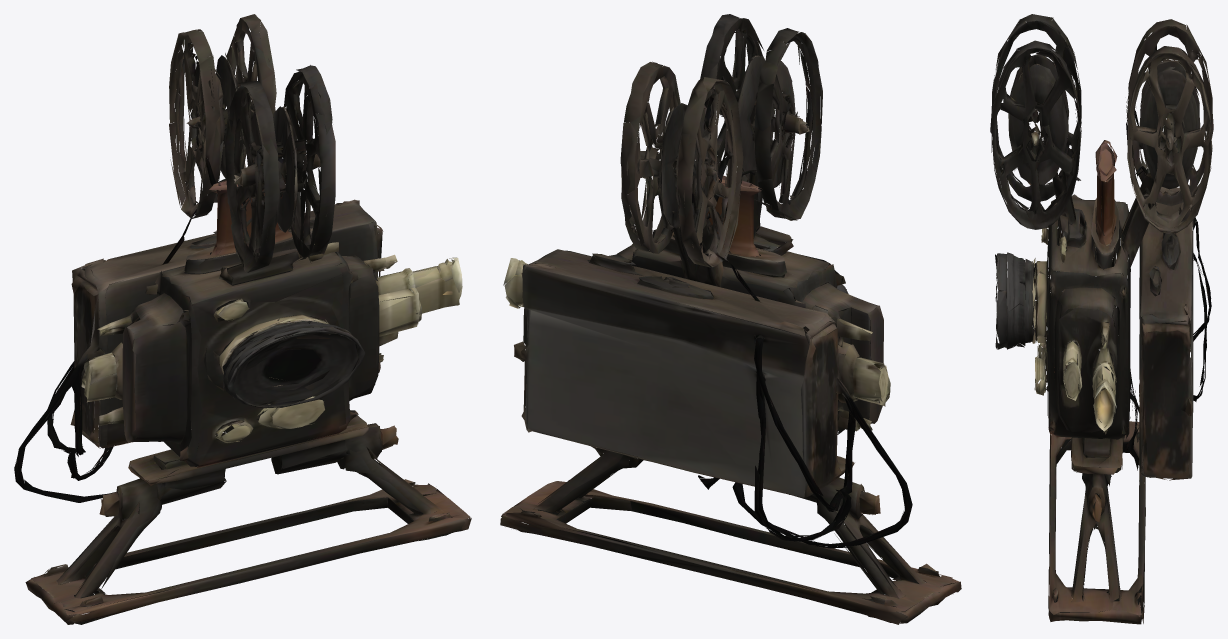
The model's file is proyector_cine.glb.
3 views of the same model, side by side, from view 1: azimuth 30°, elevation 25°; view 2: azimuth 150°, elevation 25°; view 3: azimuth 270°, elevation 25° (orthographic). The views are drawn at different scales.
Parts seen in each view (by area): view 1: geometry_0; view 2: geometry_0; view 3: geometry_0.
Part boxes in pixels (x1=…): geometry_0: x1=14, y1=14, x2=471, y2=624; geometry_0: x1=500, y1=14, x2=961, y2=624; geometry_0: x1=990, y1=14, x2=1213, y2=624.
Size of the model in its own units: 1.3 by 1.51 by 0.6064.
Materials: 1 (1 with a texture image).
